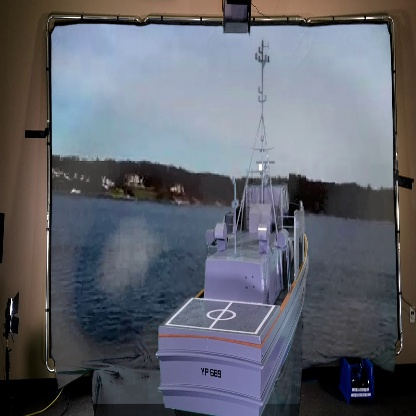YP689: (154, 36, 312, 416)
